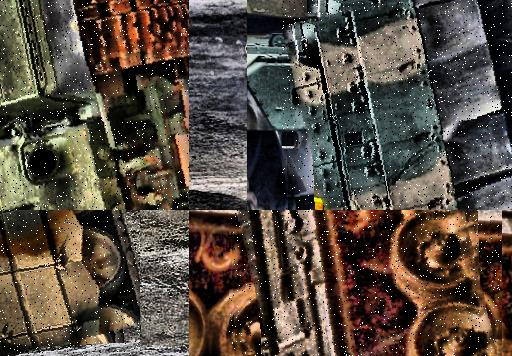tanks: (284, 1, 512, 211), (1, 1, 190, 211), (238, 211, 492, 356), (1, 211, 141, 356)
